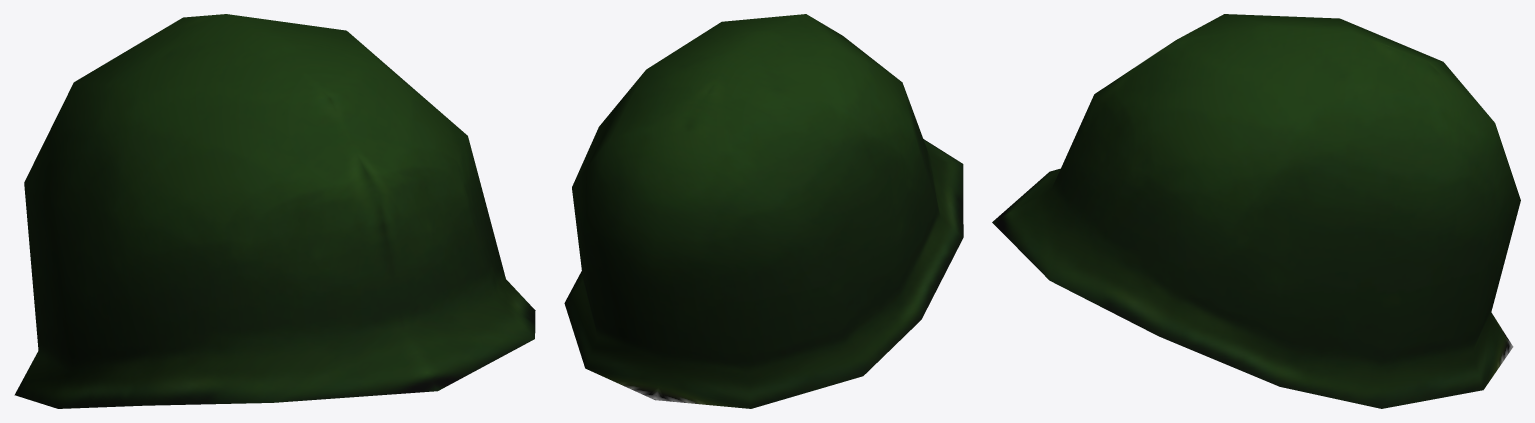
The model's file is HelmetGreen.fbx.
3 views of the same model, side by side, from view 1: azimuth 30°, elevation 25°; view 2: azimuth 150°, elevation 25°; view 3: azimuth 270°, elevation 25° (orthographic). The views are drawn at different scales.
Visible parts, largest first — view 1: Helemt_Green; view 2: Helemt_Green; view 3: Helemt_Green.
Boxes of the visible parts, <box> form: Helemt_Green: <box>14,14,535,408</box>; Helemt_Green: <box>564,14,963,408</box>; Helemt_Green: <box>992,14,1520,408</box>.
Size of the model in its own units: 0.4436 by 0.3756 by 0.5635.
Materials: 1 (1 with a texture image).
